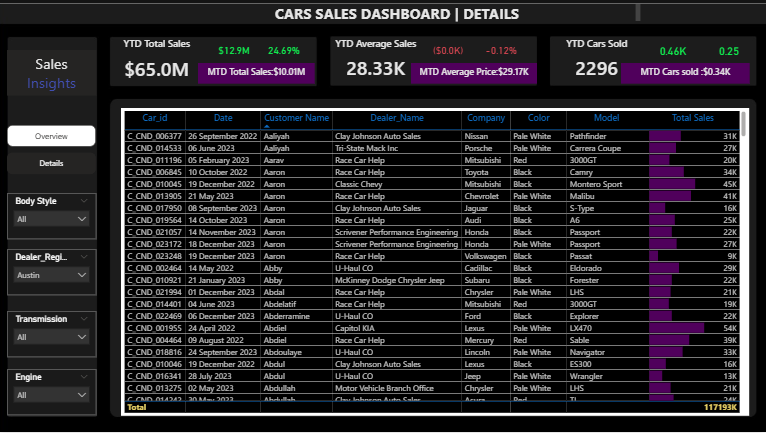

The page's visual inventory and layout, read from the dashboard file:
{"tool":"powerbi","page":{"name":"Details","canvas":[1280,720],"ordinal":1},"visuals":[{"type":"card","title":"YTD Total Sales","fields":{"Values":["car_data.YTD Total Sales"]},"box":[186.6,61.7,155.8,83.8],"z":0},{"type":"card","fields":{"Values":["car_data.Sales Difference"]},"box":[342.9,61.4,100,47.1],"z":1000},{"type":"card","fields":{"Values":["car_data.YOY Growth"]},"box":[427.1,61.4,100,47.1],"z":2000},{"type":"card","title":"MTD Total Sales","fields":{"Values":["car_data.MTD Kpi"]},"box":[332.9,104.3,194.3,34.3],"z":3000},{"type":"card","title":"YTD Average Sales","fields":{"Values":["car_data.YTD Avg Sales"]},"box":[551.4,61.4,155.7,82.9],"z":4000},{"type":"card","fields":{"Values":["Calander Table.YTD Average diff"]},"box":[707.1,61.4,87.1,47.1],"z":5000},{"type":"card","fields":{"Values":["car_data.YOY Average Price growth"]},"box":[794.3,57.1,87.1,57.1],"z":6000},{"type":"card","title":"MTD Total Sales","fields":{"Values":["car_data.MTD Average price Kpi"]},"box":[688.6,104.3,210,34.3],"z":7000},{"type":"card","title":"YTD Cars Sold","fields":{"Values":["Calander Table.YTD Cars Sales"]},"box":[920,61.4,155.7,82.9],"z":8000},{"type":"card","fields":{"Values":["car_data.CArs sold diff"]},"box":[1075.7,61.4,100,47.1],"z":9000},{"type":"card","fields":{"Values":["car_data.YOY cars Growth"]},"box":[1175.7,57.1,87.1,57.1],"z":10000},{"type":"card","title":"MTD Total Sales","fields":{"Values":["car_data.MTD cars sold kpi"]},"box":[1038.6,104.3,214.3,34.3],"z":11000},{"type":"textbox","box":[457.1,0,618.6,41.4],"z":17000},{"type":"slicer","fields":{"Values":["car_data.Body Style"]},"box":[15.7,321.4,148.6,77.1],"z":18000},{"type":"slicer","fields":{"Values":["car_data.Dealer_Region"]},"box":[15.7,414.3,148.6,77.1],"z":19000},{"type":"slicer","fields":{"Values":["car_data.Transmission"]},"box":[15.7,518.6,148.6,77.1],"z":20000},{"type":"slicer","fields":{"Values":["car_data.Engine"]},"box":[15.7,615.7,148.6,77.1],"z":21000},{"type":"tableEx","fields":{"Values":["car_data.Car_id","car_data.Date","car_data.Customer Name","car_data.Dealer_Name","car_data.Company","car_data.Color","car_data.Model","car_data.Price ($)"]},"box":[205.7,180,1047.1,512.9],"z":21001},{"type":"textbox","box":[15.7,82.9,148.6,75.7],"z":21002},{"type":"pageNavigator","box":[15.7,208.6,148.6,82.9],"z":21003}]}

Visuals, with their boxes in screenshot pixels (x1, y1, x2, y2):
"YTD Total Sales" card: 108,38,200,88
card - car_data.Sales Difference: 200,38,259,66
card - car_data.YOY Growth: 250,38,309,66
"MTD Total Sales" card: 194,64,309,84
"YTD Average Sales" card: 323,38,415,87
card - Calander Table.YTD Average diff: 415,38,467,66
card - car_data.YOY Average Price growth: 467,36,518,69
"MTD Total Sales" card: 404,64,528,84
"YTD Cars Sold" card: 541,38,633,87
card - car_data.CArs sold diff: 633,38,692,66
card - car_data.YOY cars Growth: 692,36,743,69
"MTD Total Sales" card: 611,64,737,84
textbox: 268,2,633,26
slicer - car_data.Body Style: 7,192,95,237
slicer - car_data.Dealer_Region: 7,246,95,292
slicer - car_data.Transmission: 7,308,95,354
slicer - car_data.Engine: 7,365,95,411
tableEx - car_data.Car_id x car_data.Date: 119,108,737,411
textbox: 7,51,95,96
pageNavigator: 7,125,95,174
